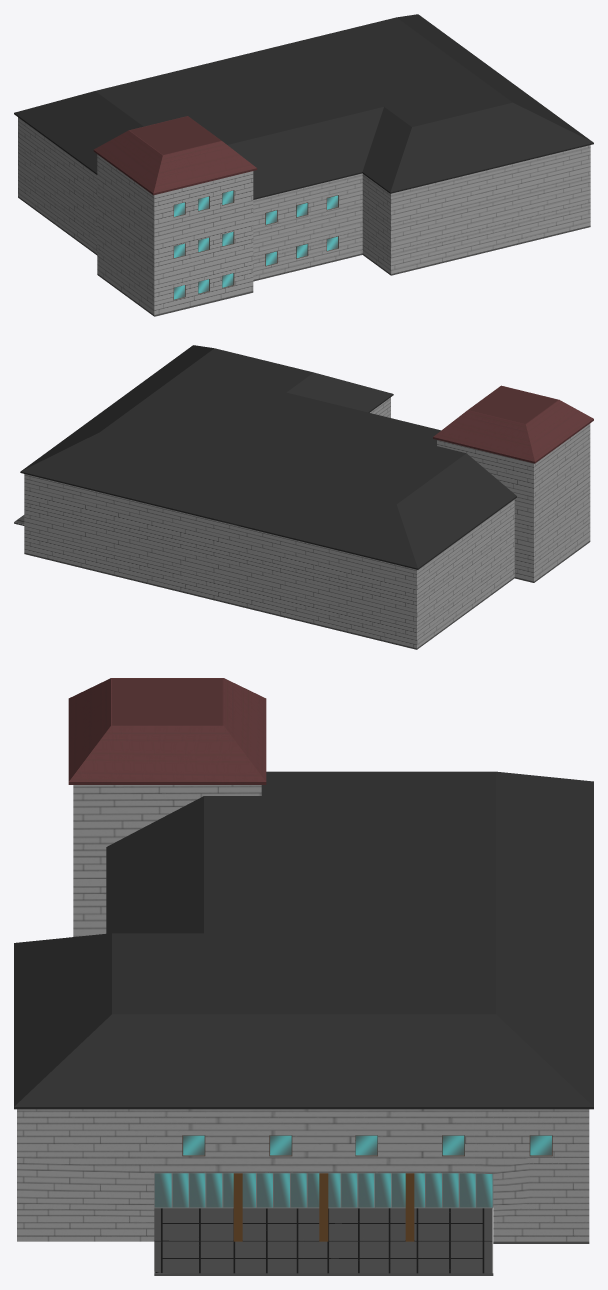
File: Library.FBX
The picture shows the model from 3 angles, top to bottom: view 1: azimuth 30°, elevation 25°; view 2: azimuth 150°, elevation 25°; view 3: azimuth 270°, elevation 25°; orthographic projection. The views are drawn at different scales.
Parts seen in each view (by area): view 1: pPlane6; view 2: pPlane6; view 3: pPlane6.
Boxes of the visible parts, bbox=[...] form: pPlane6: bbox=[14, 14, 593, 316]; pPlane6: bbox=[14, 345, 593, 649]; pPlane6: bbox=[14, 678, 593, 1275].
Bounding box in the file's own units: 466 × 143 × 308.
